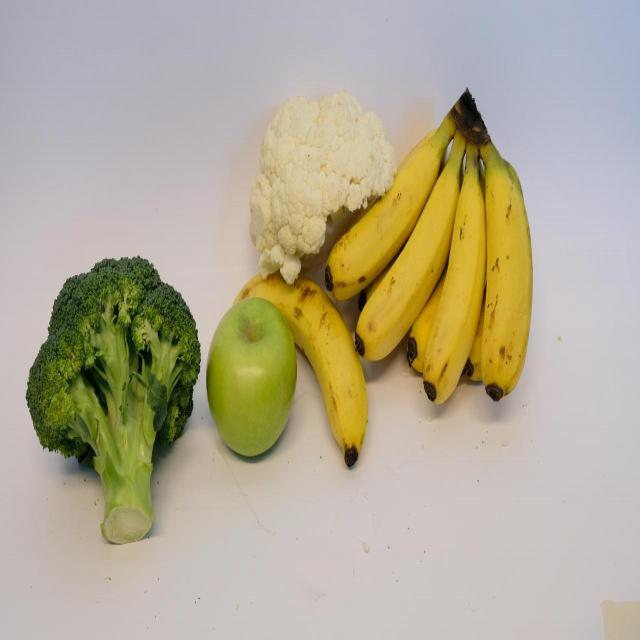apple: (204, 295, 298, 464)
banana: (230, 263, 371, 470), (354, 122, 466, 376), (326, 112, 459, 309), (420, 140, 487, 406), (481, 131, 532, 400)
broccoli: (25, 252, 202, 546)
cauliflower: (246, 90, 399, 285)
